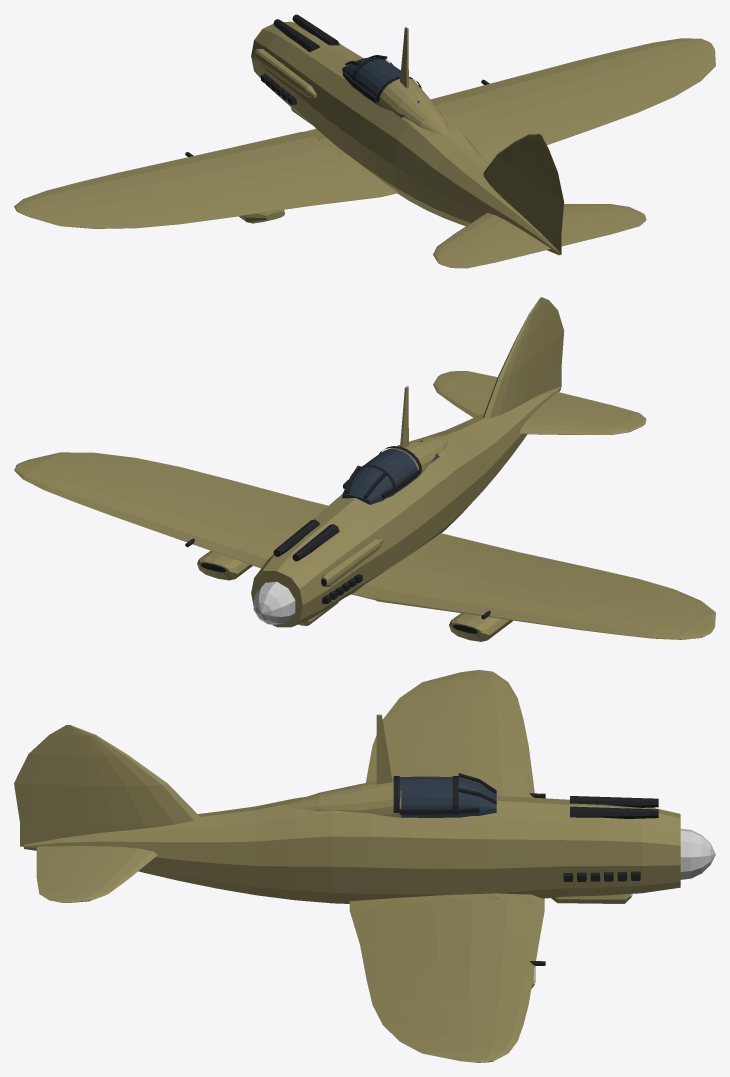
3 views of the same model, one above another, from view 1: azimuth 30°, elevation 25°; view 2: azimuth 150°, elevation 25°; view 3: azimuth 270°, elevation 25° (orthographic). The views are drawn at different scales.
Parts seen in each view (by area): view 1: Fuselage, Wing L, Wing R, Flap L, Rudder, Vertical Fin, Stabilizer L, Aileron R, Flap R, Aileron L, Dorsal Fairing, Elevator L (+7 smaller); view 2: Fuselage, Wing L, Wing R, Vertical Fin, Stabilizer L, Rudder, Radiators, Cockpit Glass, Flap L, Flap R, Stabilizer R, Aileron R (+7 smaller); view 3: Fuselage, Wing R, Wing L, Vertical Fin, Rudder, Stabilizer R, Flap R, Cockpit Glass, Dorsal Fairing, Aileron R, Aileron L, Elevator R (+5 smaller).
Part boxes in pixels (x1,y1,x2,y2): Fuselage: (251,21,560,255); Wing L: (14,128,397,227); Wing R: (430,38,715,145); Flap L: (203,178,368,218); Rudder: (530,134,564,254); Vertical Fin: (483,134,539,223); Stabilizer L: (433,213,527,263); Aileron R: (593,64,708,122); Flap R: (473,108,603,164); Aileron L: (67,203,212,228); Dorsal Fairing: (376,78,449,135); Elevator L: (440,234,550,268); Fuselage: (251,387,560,627); Wing L: (351,533,715,639); Wing R: (14,452,315,568); Vertical Fin: (483,298,539,418); Stabilizer L: (519,403,643,434); Rudder: (535,297,564,395); Radiators: (197,550,512,641); Cockpit Glass: (342,449,418,504); Flap L: (449,540,602,578); Flap R: (203,477,328,516); Stabilizer R: (433,375,493,417); Aileron R: (67,452,212,483); Fuselage: (24,795,680,903); Wing R: (349,893,545,1062); Wing L: (368,670,545,798); Vertical Fin: (70,725,199,835); Rudder: (14,725,83,846); Stabilizer R: (63,846,157,902); Flap R: (351,910,407,986); Cockpit Glass: (399,776,496,817); Dorsal Fairing: (285,778,401,817); Aileron R: (369,985,434,1047); Aileron L: (369,687,434,764); Elevator R: (36,846,78,902).
Bounding box in the file's own units: 11 × 2.67 × 8.32.
